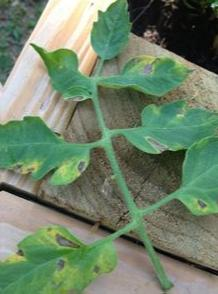Tomato Early blight leaf: (0, 226, 113, 294), (0, 121, 91, 187), (117, 100, 218, 156), (23, 35, 91, 107), (101, 58, 196, 97)
Tomato leaf: (84, 0, 131, 61)
